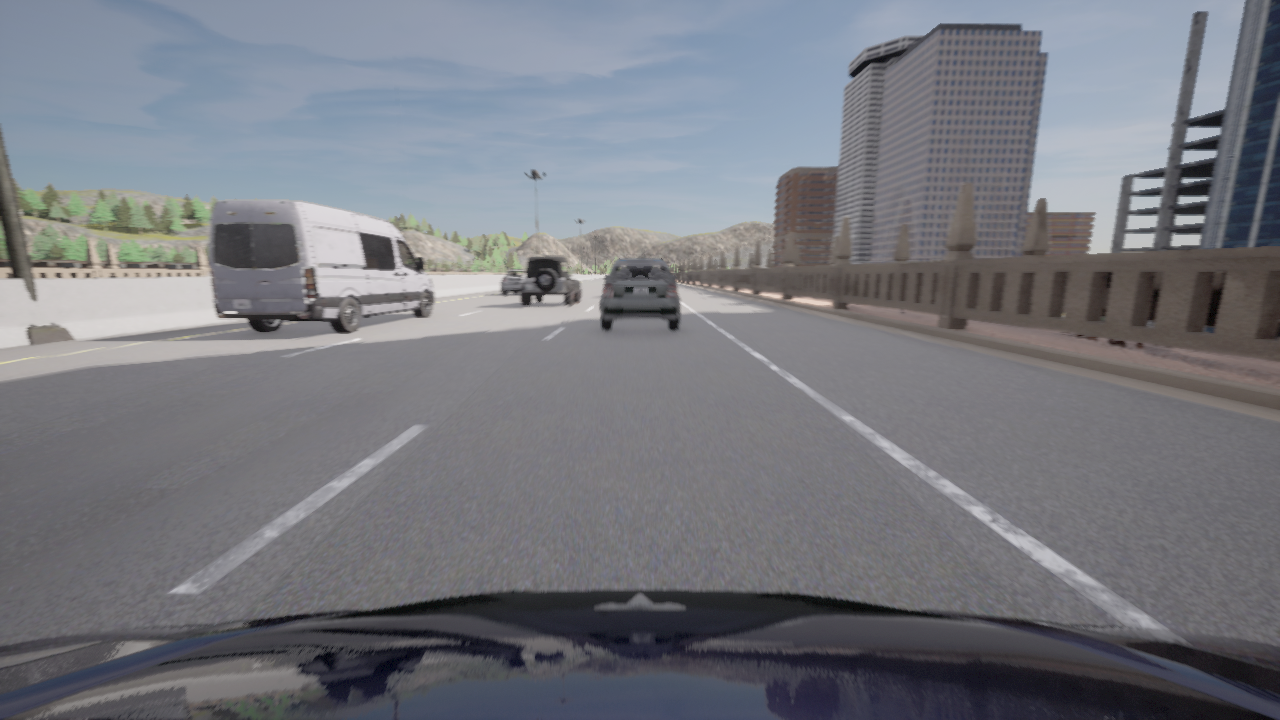cyclist: (0, 588, 1279, 719), (206, 199, 433, 331), (600, 258, 679, 329), (521, 255, 580, 305), (501, 269, 524, 294)
